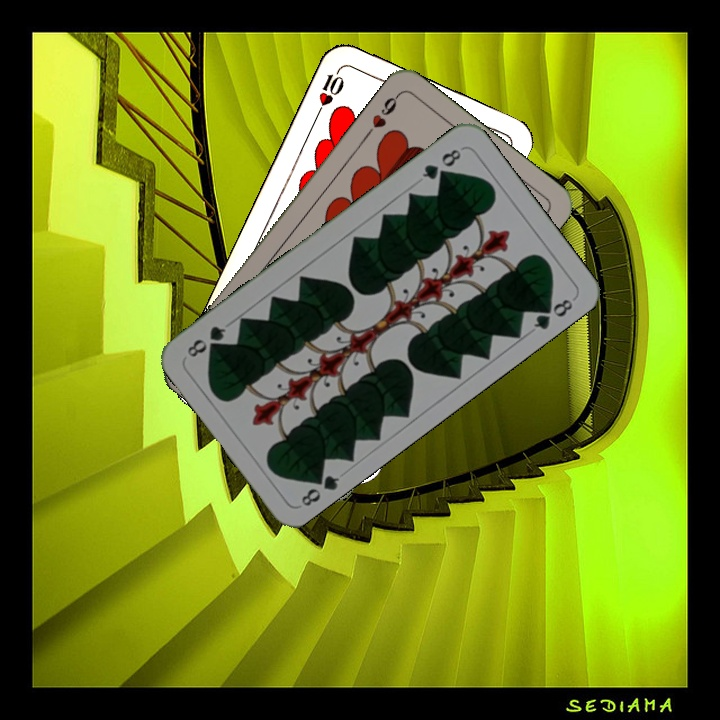G8: (297, 466, 343, 509), (418, 144, 464, 183)
H10: (312, 63, 347, 119)
H9: (361, 90, 402, 140)
